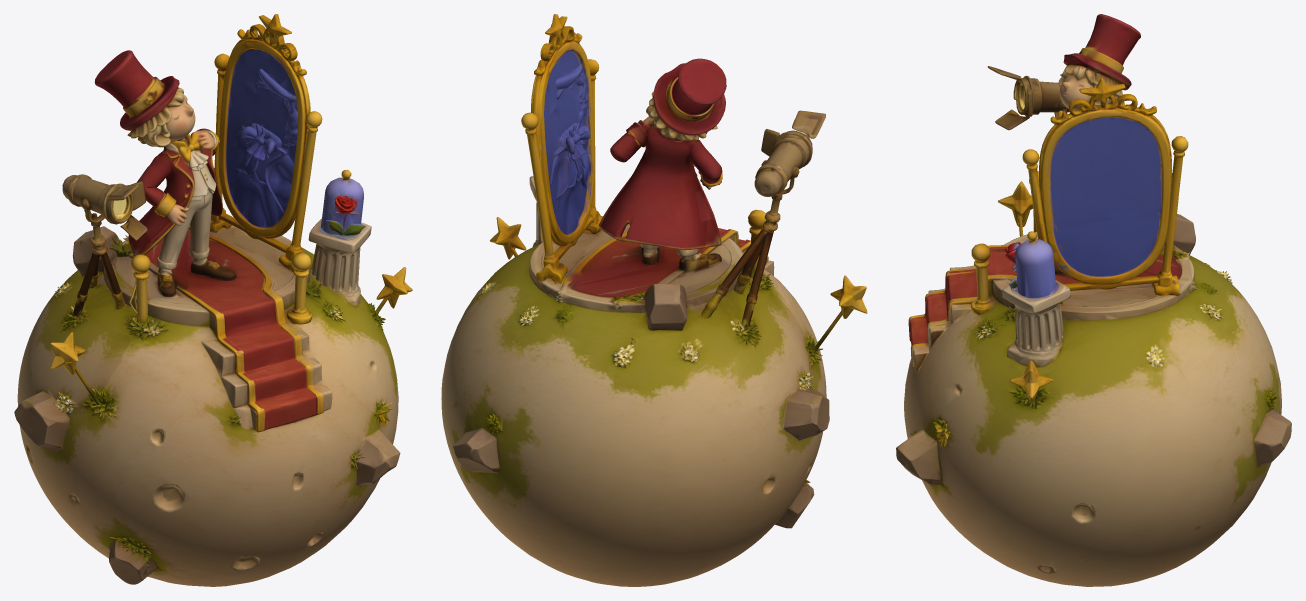
The model's file is vain.glb.
3 renders of one model, left to right at view 1: azimuth 30°, elevation 25°; view 2: azimuth 150°, elevation 25°; view 3: azimuth 270°, elevation 25°, orthographic. The views are drawn at different scales.
Parts seen in each view (by area): view 1: node_0; view 2: node_0; view 3: node_0.
Boxes of the visible parts, <box> form: node_0: <box>14,14,412,586</box>; node_0: <box>441,14,867,586</box>; node_0: <box>896,14,1291,586</box>.
Size of the model in its own units: 0.8247 by 1.14 by 0.7778.
1 material, 1 textured.
